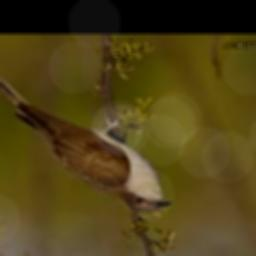Cuckoo: (0, 55, 171, 212)
